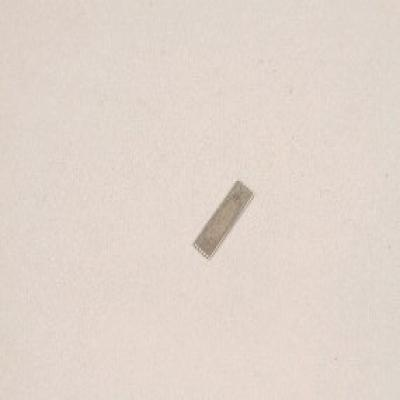technique: (192, 181, 255, 261)
